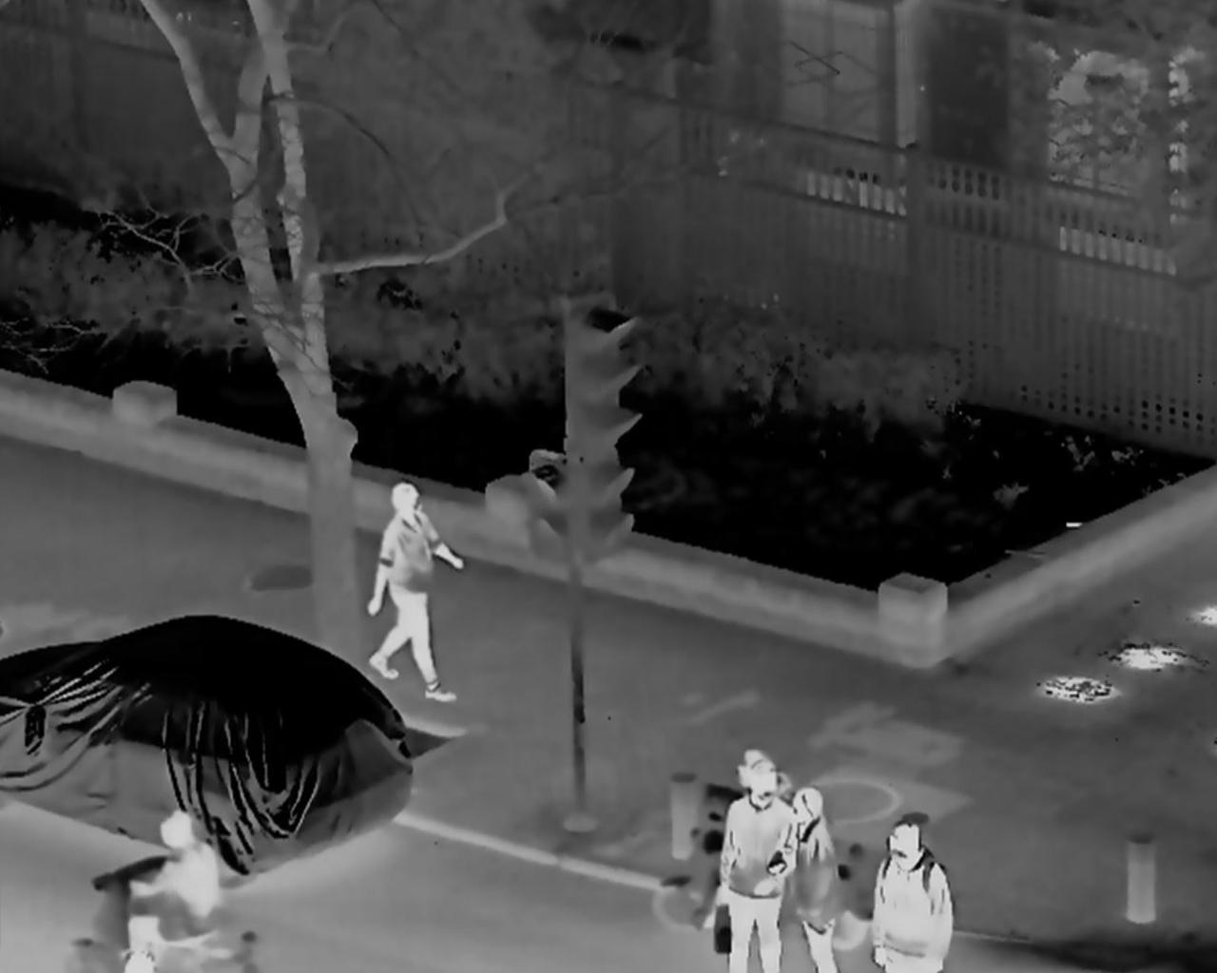person: (366, 487, 465, 702), (108, 807, 215, 973), (714, 763, 786, 973), (772, 783, 849, 973), (867, 821, 956, 973)
